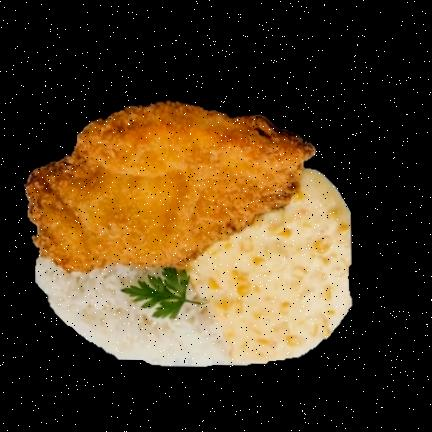chicken: (27, 102, 315, 272)
corn: (189, 170, 351, 363)
rice: (36, 259, 232, 366)
